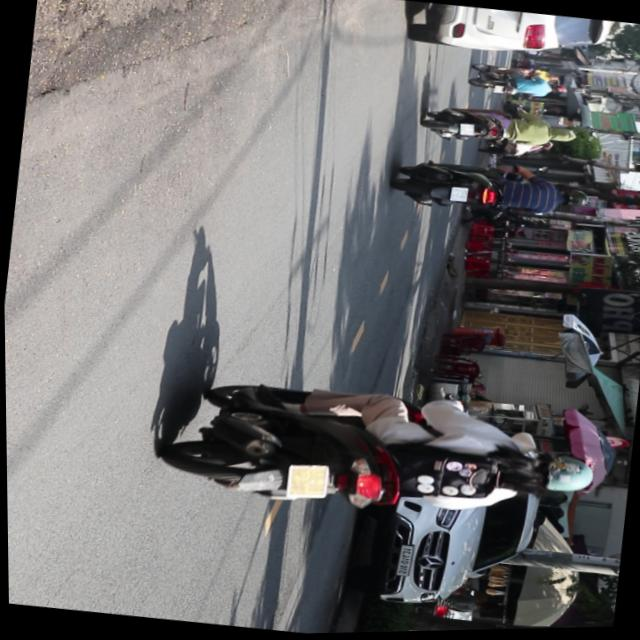helmet: (520, 450, 597, 502), (560, 192, 591, 211), (551, 128, 577, 146)
licenseplate: (150, 357, 609, 549), (389, 153, 595, 230), (420, 99, 579, 161)
nohelmet: (284, 463, 327, 502), (449, 188, 469, 204), (460, 124, 475, 138)
